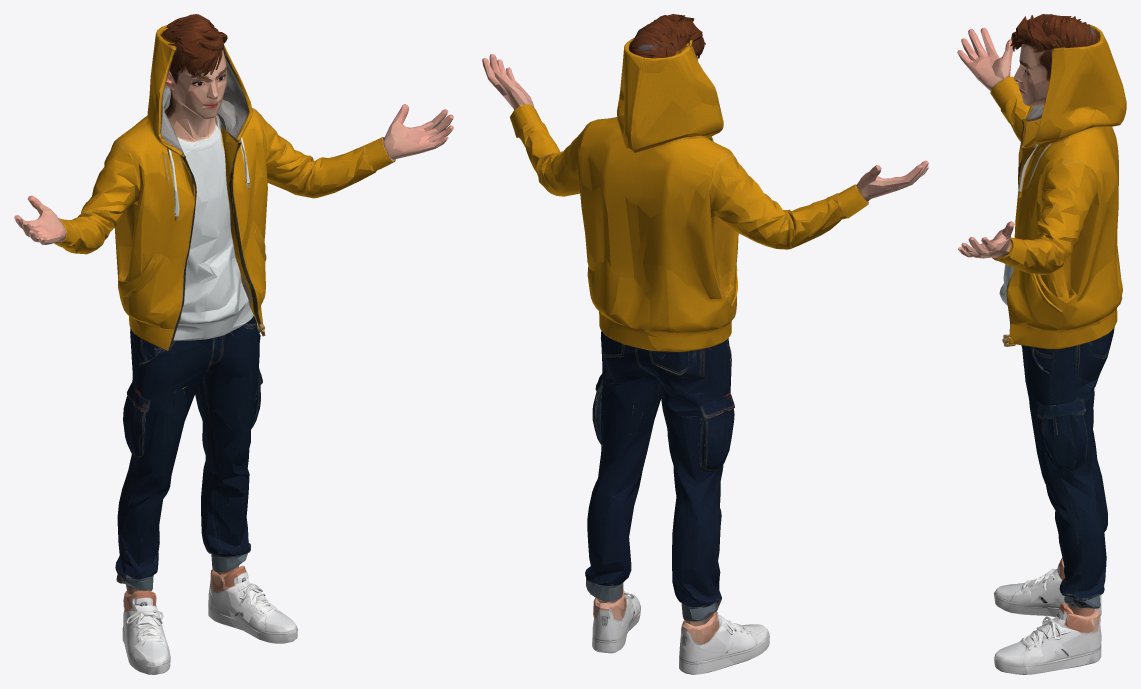
Rendered from guest.glb.
The picture shows the model from 3 angles, left to right: view 1: azimuth 30°, elevation 25°; view 2: azimuth 150°, elevation 25°; view 3: azimuth 270°, elevation 25°; orthographic projection.
Bounding box in the file's own units: 1.39 × 1.9 × 0.4693.
Materials: 1 (1 with a texture image).
